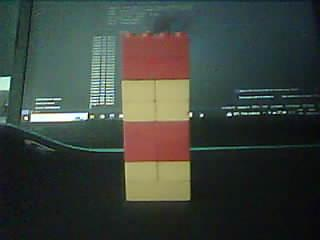lego: (119, 30, 190, 202)
